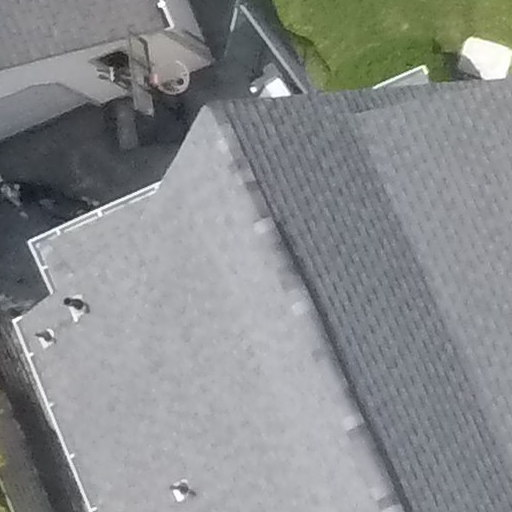basketball: (96, 28, 212, 128)
